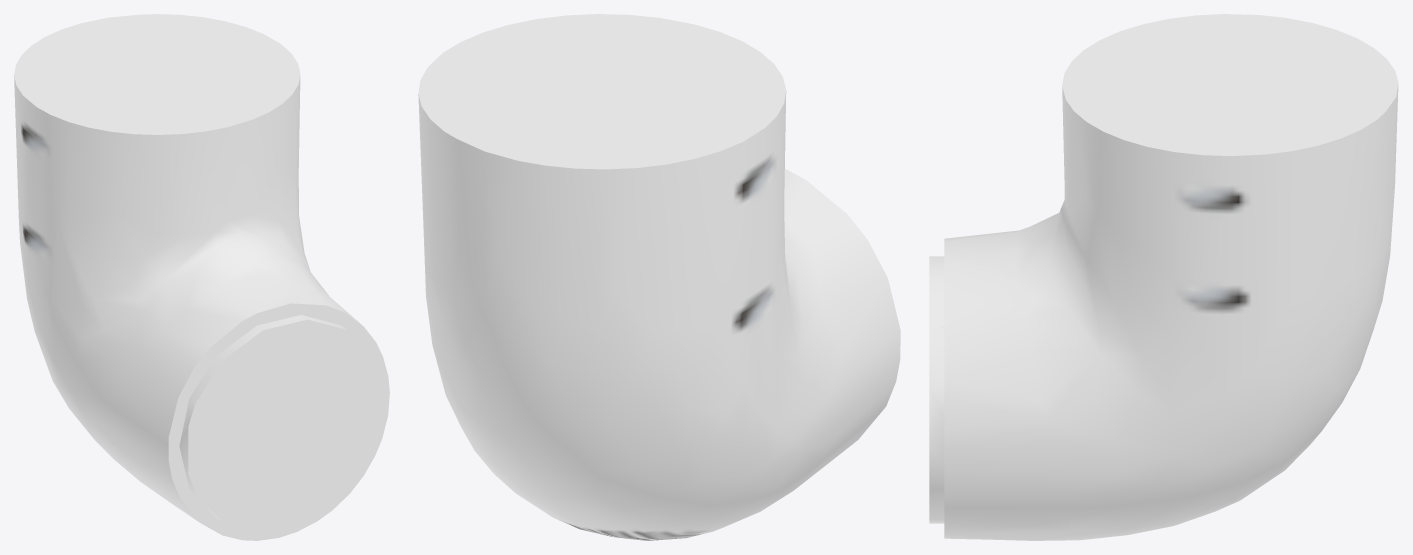
File: link_elbow.3obj.obj.glb
3 renders of one model, left to right at view 1: azimuth 30°, elevation 25°; view 2: azimuth 150°, elevation 25°; view 3: azimuth 270°, elevation 25°, orthographic. The views are drawn at different scales.
Parts seen in each view (by area): view 1: link_elbow.3obj.obj; view 2: link_elbow.3obj.obj; view 3: link_elbow.3obj.obj.
Boxes of the visible parts, x1=… form: link_elbow.3obj.obj: x1=14, y1=14, x2=389, y2=540; link_elbow.3obj.obj: x1=418, y1=14, x2=900, y2=540; link_elbow.3obj.obj: x1=929, y1=14, x2=1398, y2=540.
Size of the model in its own units: 0.1015 by 0.147 by 0.1415.
Materials: 1 (1 with a texture image).
